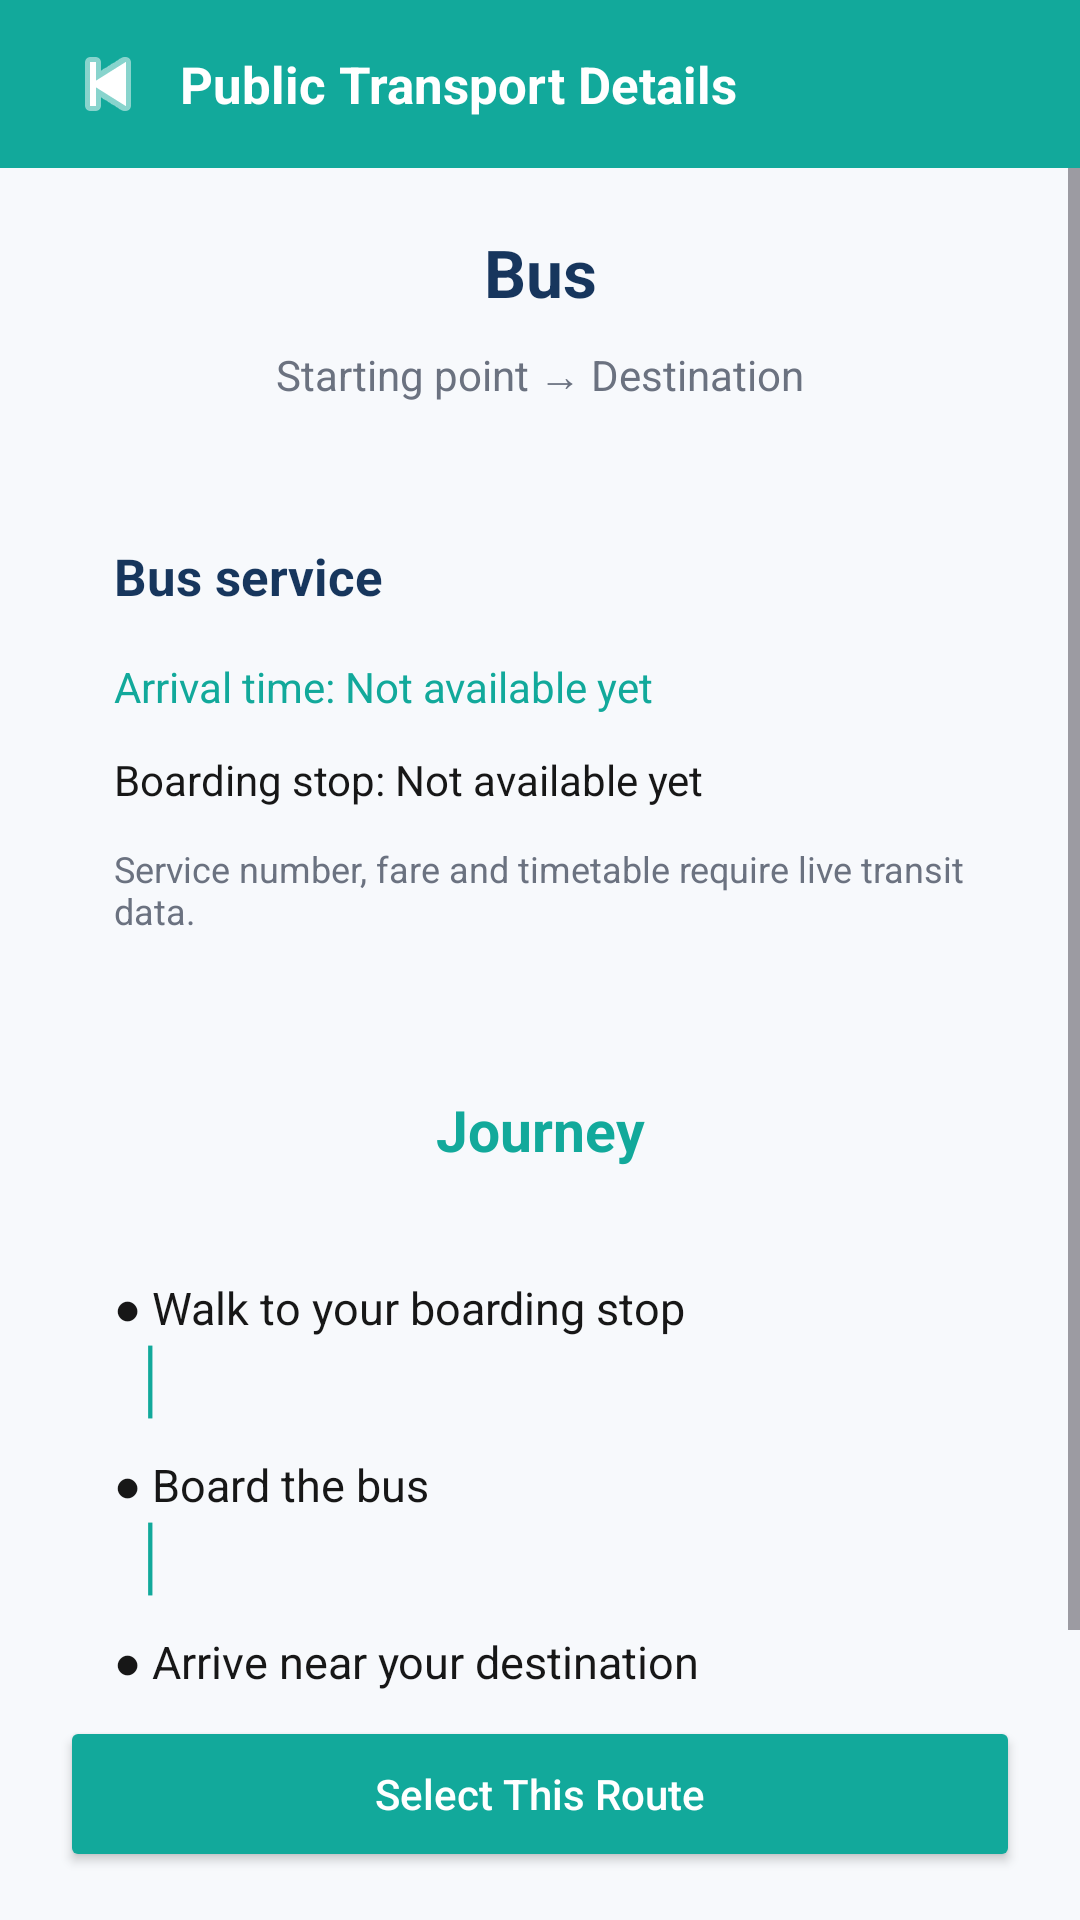

Point at icon controls on the screen. Image size 1080×1920, points as (x,y).
Back to Route Details: (108,84)
